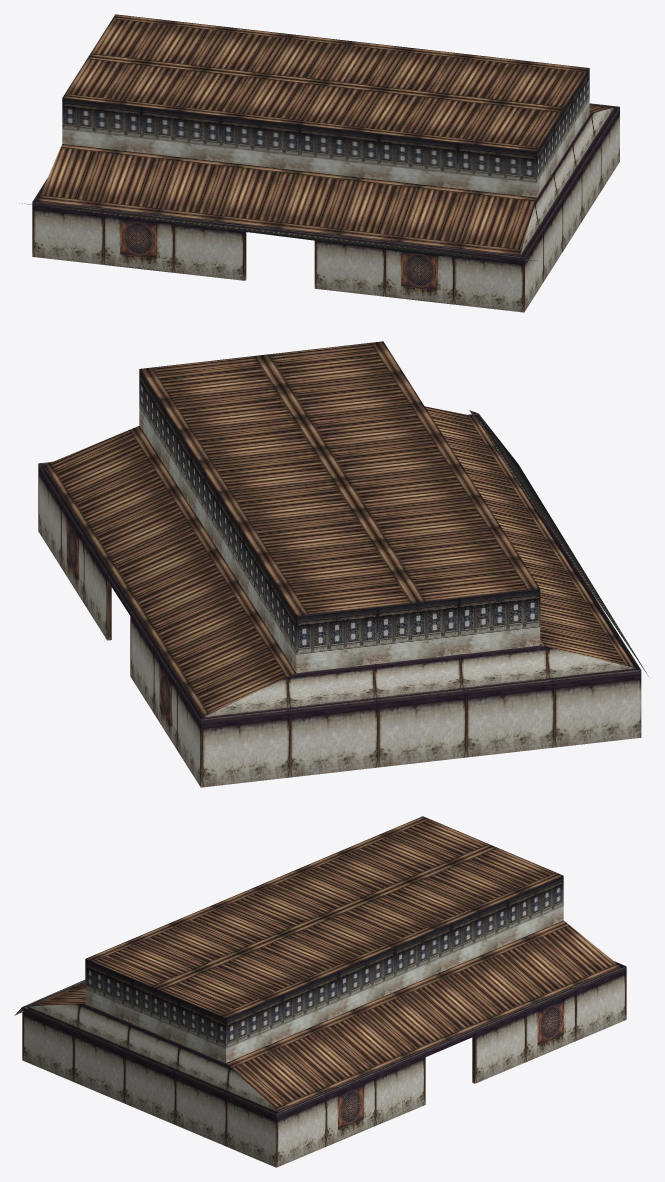
File: ian1396.obj
3 renders of one model, top to bottom at view 1: azimuth 30°, elevation 25°; view 2: azimuth 150°, elevation 25°; view 3: azimuth 270°, elevation 25°, orthographic. The views are drawn at different scales.
Parts seen in each view (by area): view 1: ian1396; view 2: ian1396; view 3: ian1396.
Boxes of the visible parts, x1,y1,x2,y2 form: ian1396: (19, 14, 619, 312); ian1396: (38, 341, 648, 787); ian1396: (14, 816, 626, 1167).
Size of the model in its own units: 744 by 156 by 732.
